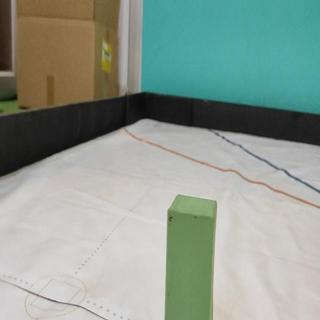greenbox: (163, 193, 218, 320)
